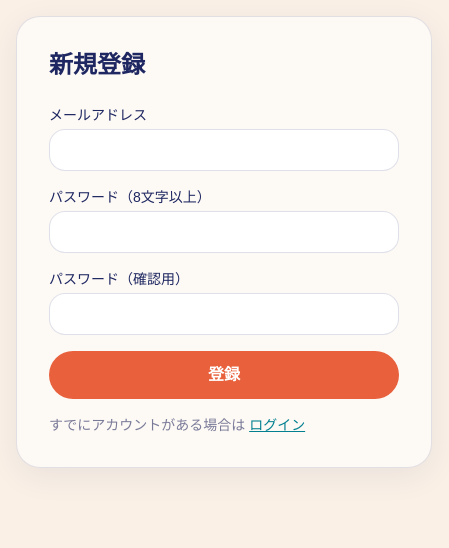
Test: RegisterPage (結合寄り) › 確認パスワード不一致でエラー
Expected: the heading "新規登録" is shown, x1=49 y1=51 x2=145 y2=78
Type "user@example.com" into the field at (224, 150), box x1=49 y1=129 x2=399 y2=171
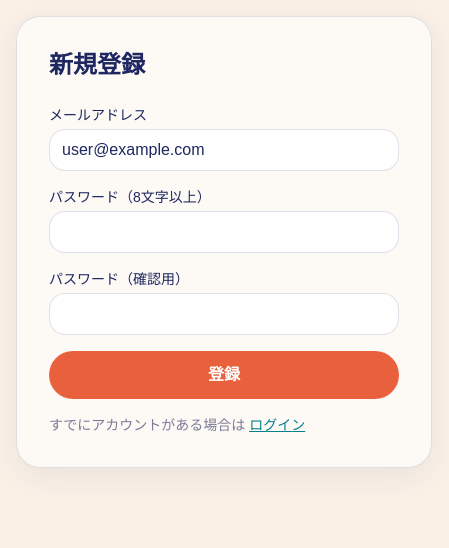
Type "password123" into the password field below "パスワード（8文字以上）" at (224, 232), box x1=49 y1=211 x2=399 y2=253
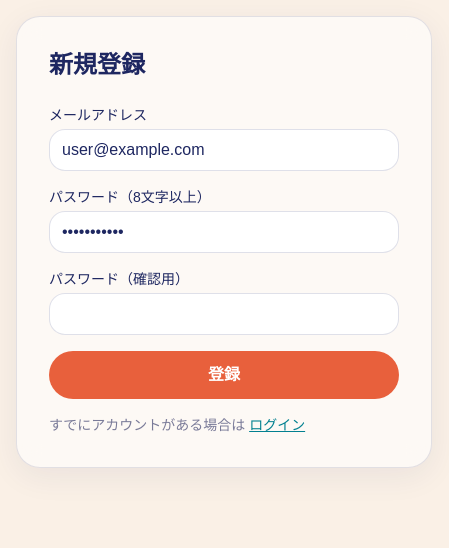
Type "password999" into the password field below "パスワード（確認用）" at (224, 314), box x1=49 y1=293 x2=399 y2=335
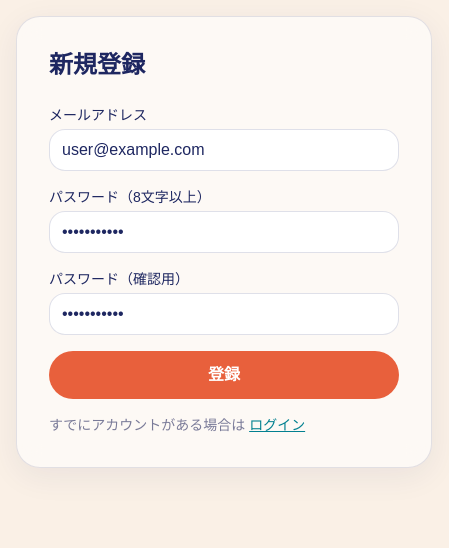
Click the button "登録" at (224, 375), box x1=49 y1=351 x2=399 y2=399
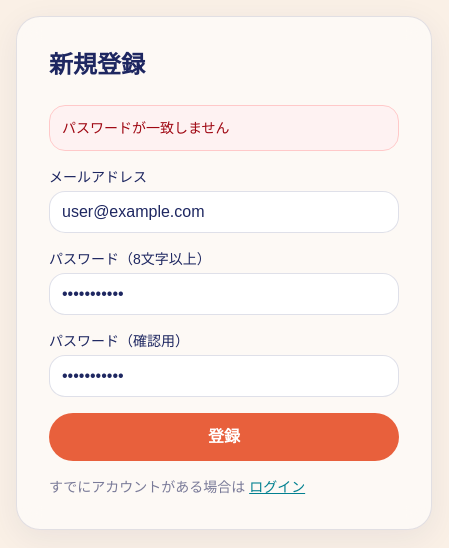
Now the text "パスワードが一致しません" is shown, box x1=49 y1=105 x2=399 y2=151
